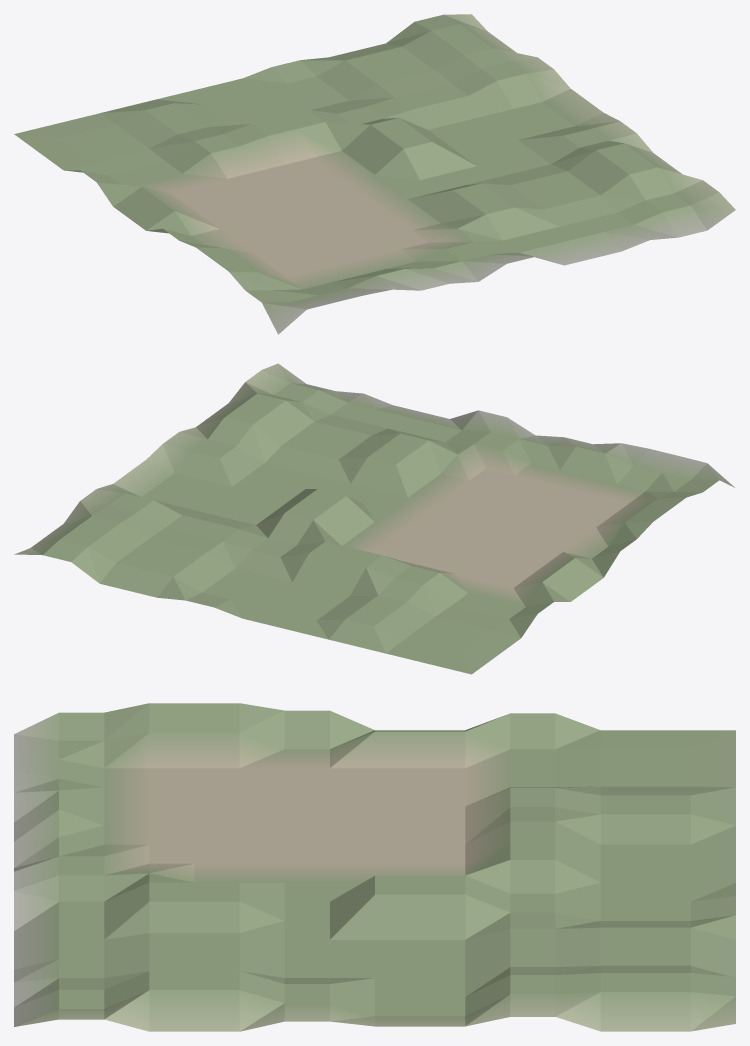
3 renders of one model, top to bottom at view 1: azimuth 30°, elevation 25°; view 2: azimuth 150°, elevation 25°; view 3: azimuth 270°, elevation 25°, orthographic. The views are drawn at different scales.
Size of the model in its own units: 32 by 1.84 by 32.
